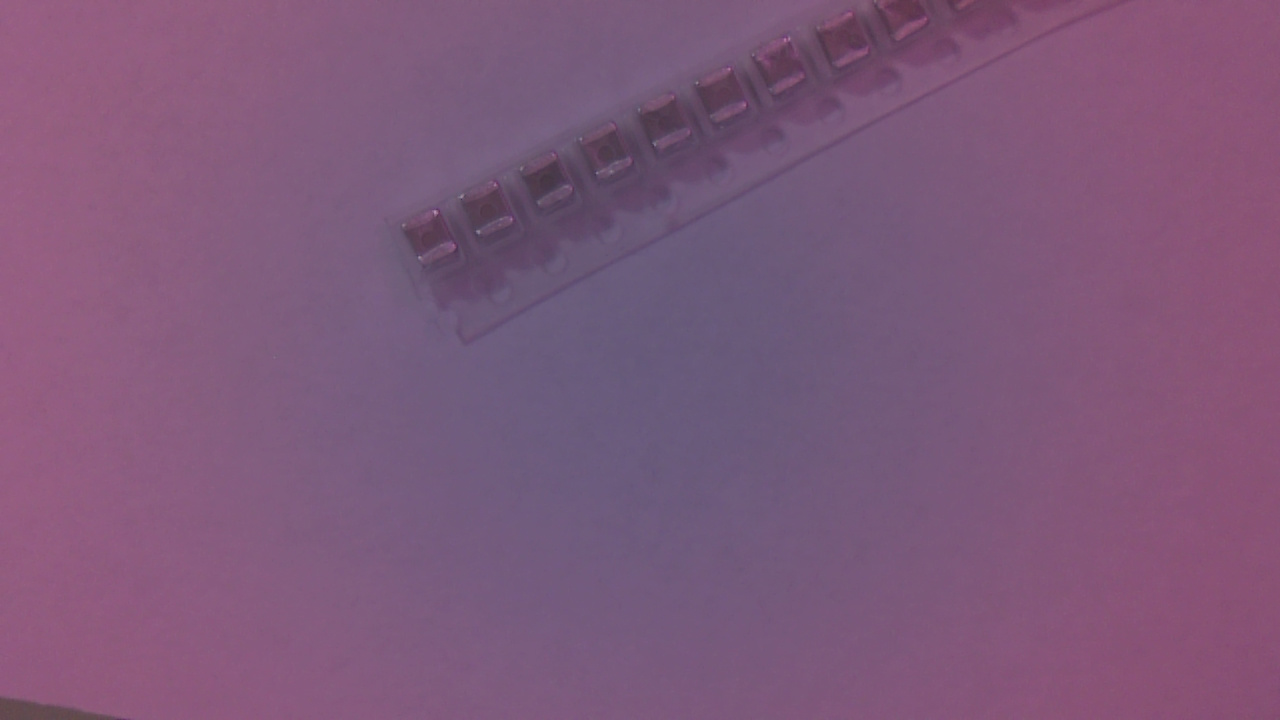Condensator: (754, 36, 812, 98), (464, 181, 519, 246), (643, 96, 696, 163), (819, 16, 879, 75), (407, 213, 465, 270), (526, 158, 581, 217), (584, 128, 637, 187), (702, 71, 752, 130)
